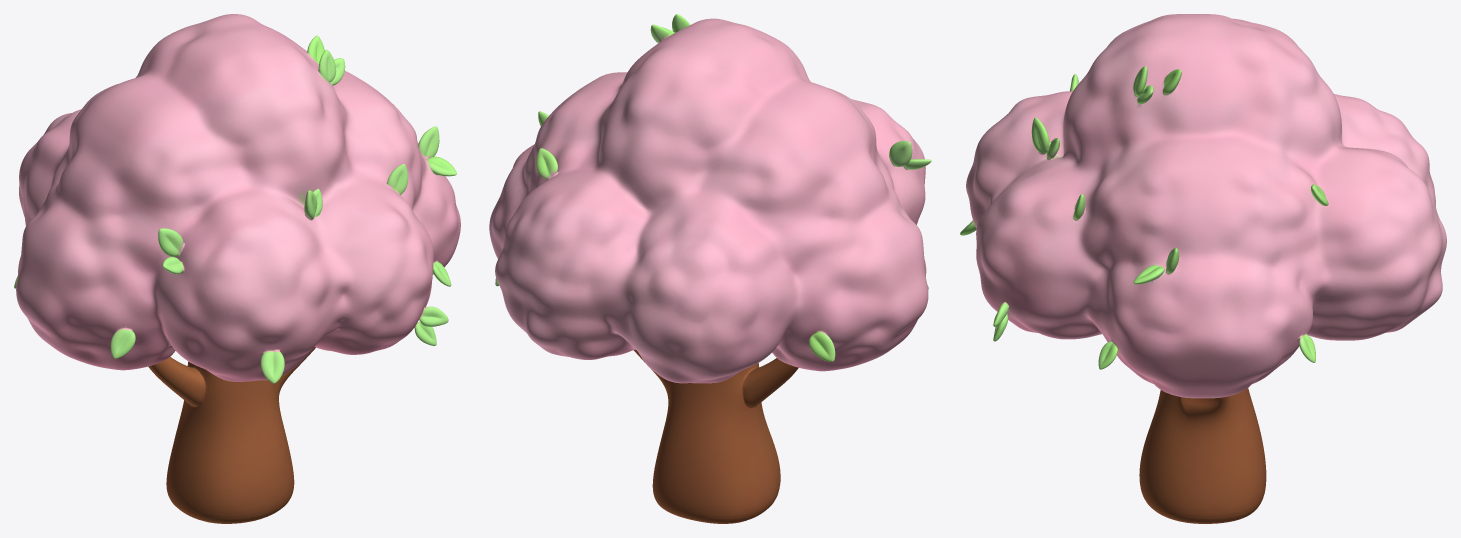
The model's file is cherry_blossom_tree.glb.
The picture shows the model from 3 angles, left to right: view 1: azimuth 30°, elevation 25°; view 2: azimuth 150°, elevation 25°; view 3: azimuth 270°, elevation 25°; orthographic projection. The views are drawn at different scales.
Size of the model in its own units: 1.75 by 1.9 by 1.73.
1 material, 1 textured.
